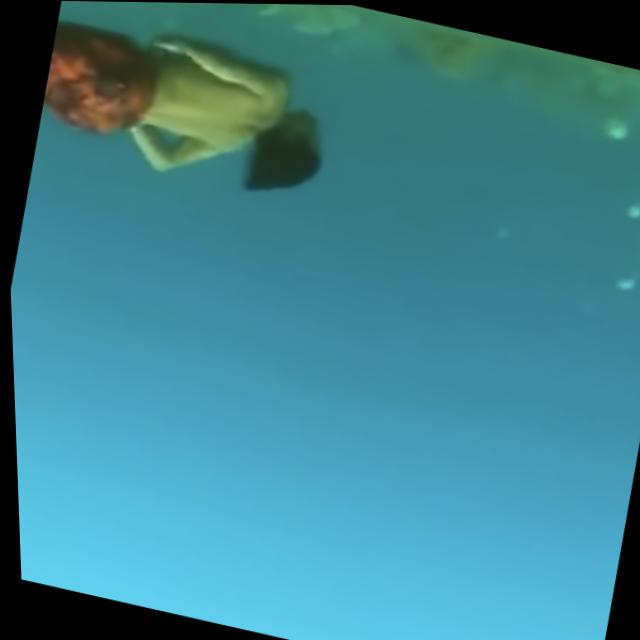human: (29, 2, 348, 214)
